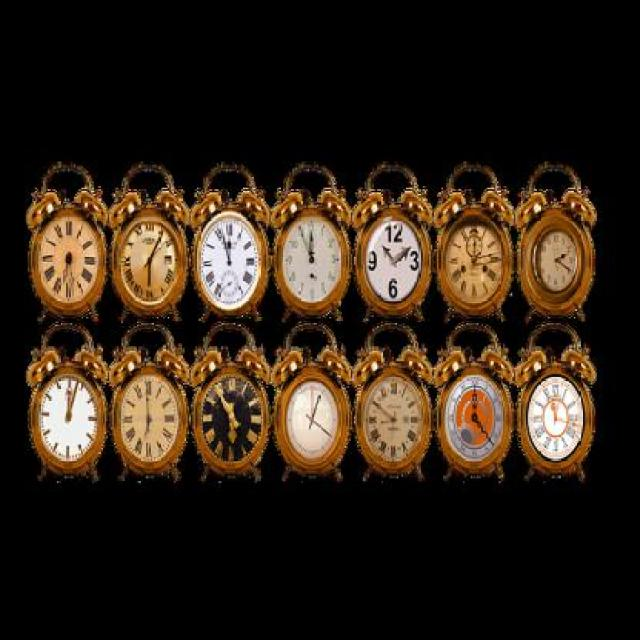clock: (199, 213, 260, 312), (37, 375, 100, 464), (530, 379, 586, 460), (367, 219, 422, 301), (287, 379, 340, 464), (537, 227, 580, 293)
